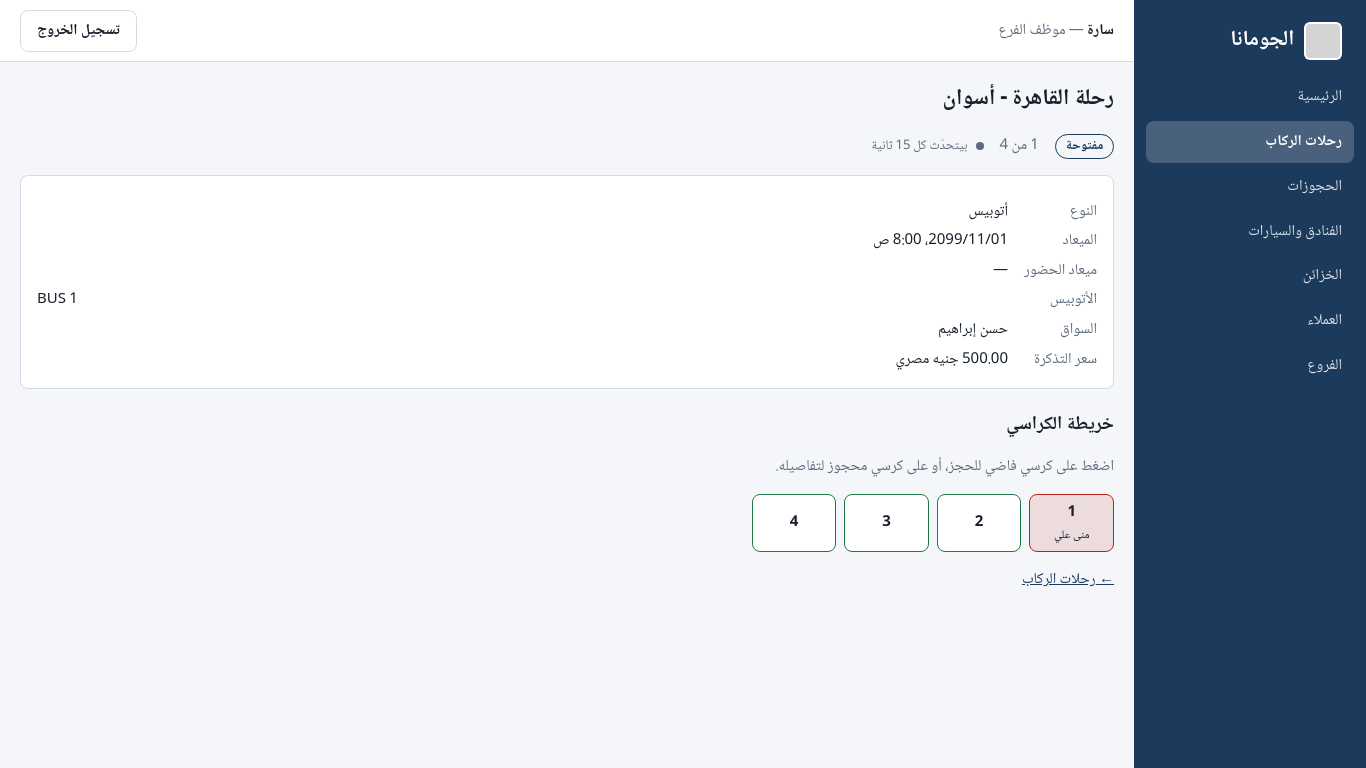
seat map › tells the clerk when someone took the seat a moment ago
Click the button "3" at x=887, y=523, box left=844, top=494, right=929, bottom=552
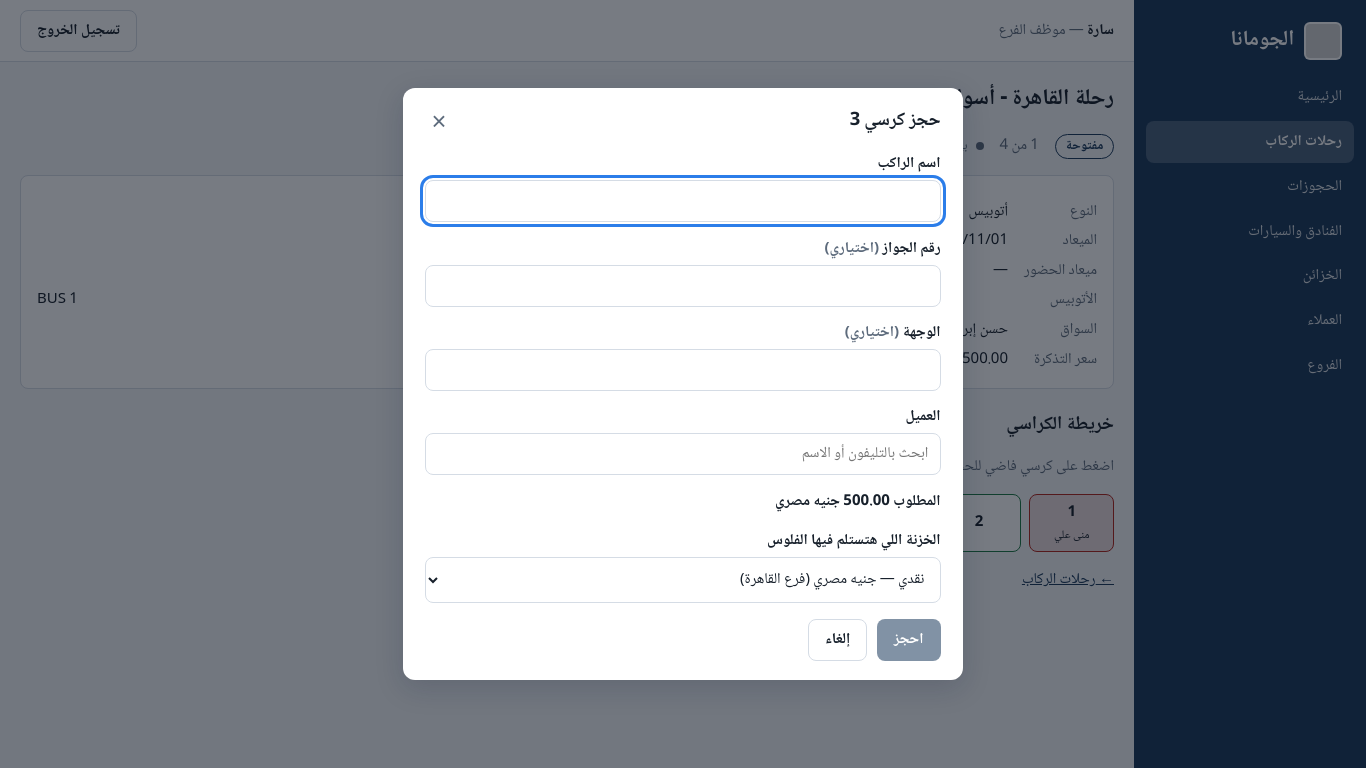
Type "سمير حسن" into the field labelled "اسم الراكب" at x=683, y=201, box left=425, top=180, right=941, bottom=222
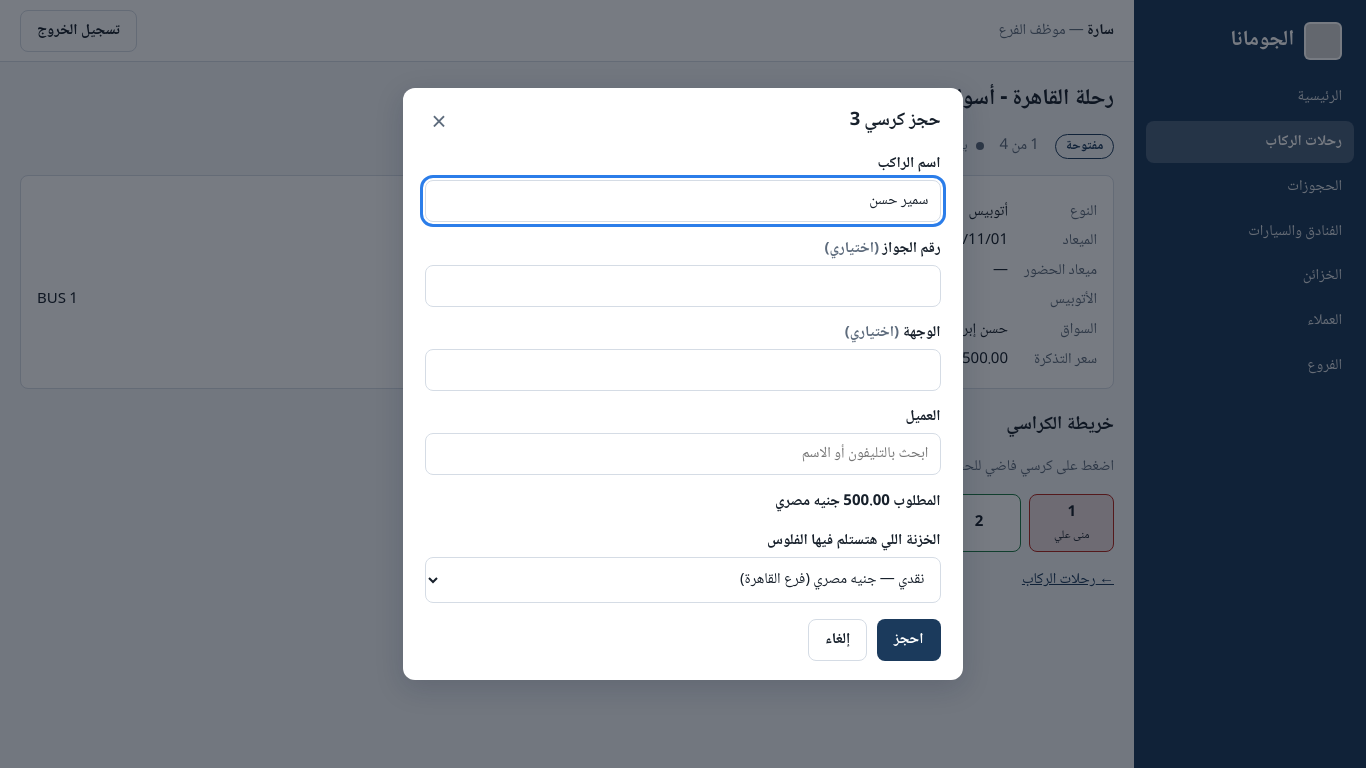
Now the button "احجز" is enabled
Click the button "احجز" at x=909, y=640, box left=877, top=619, right=941, bottom=661
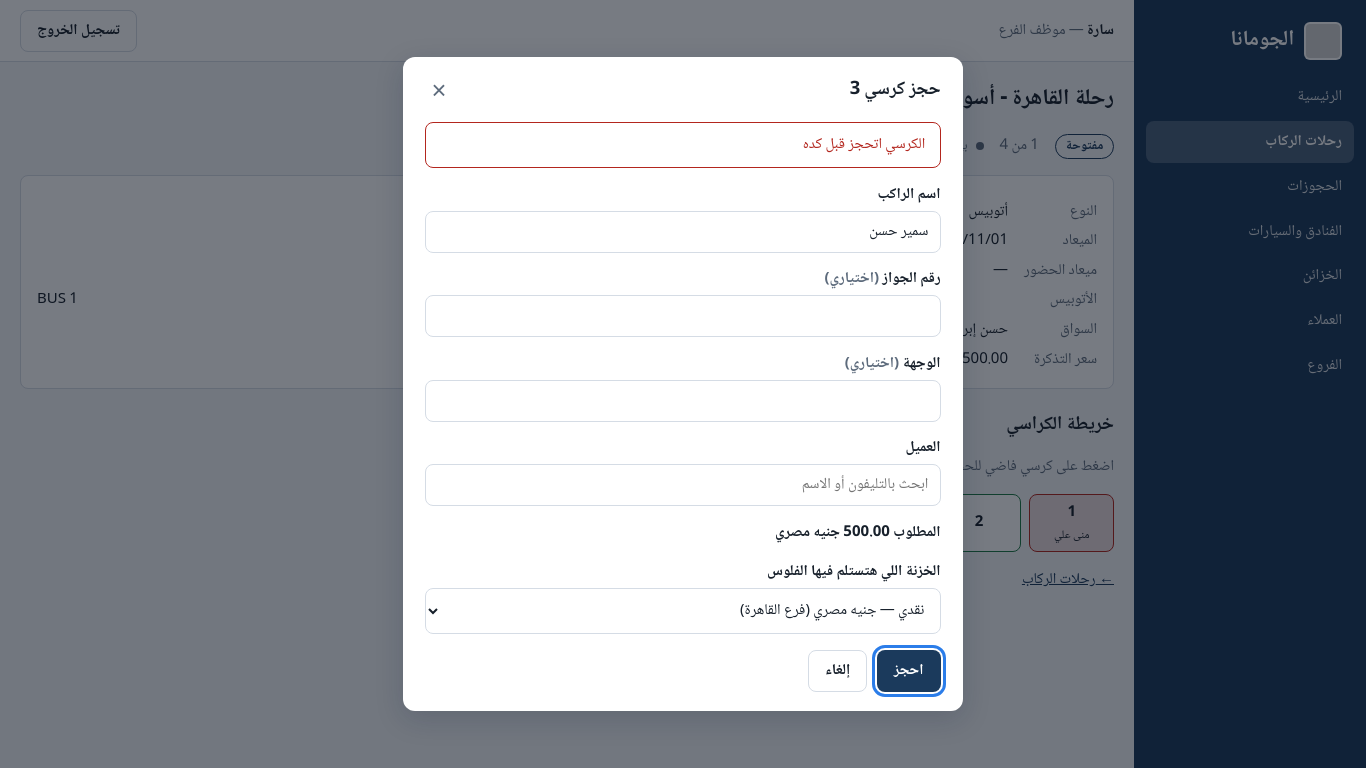
Now the text "الكرسي اتحجز قبل كده" is shown, box left=425, top=122, right=941, bottom=168
